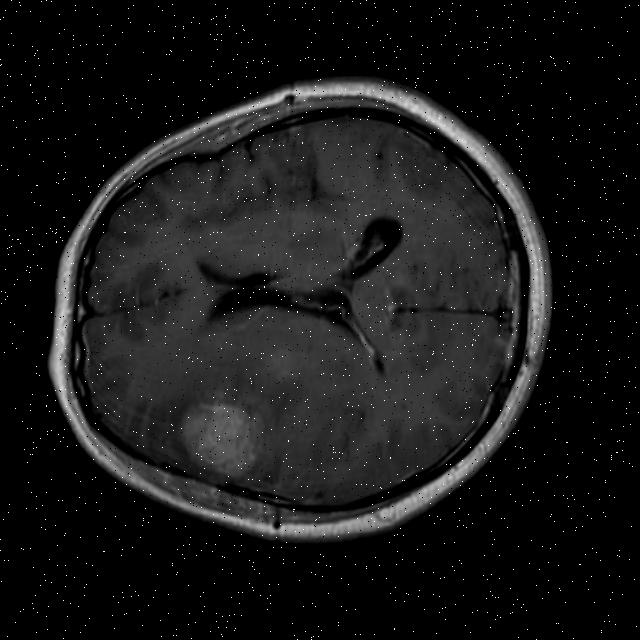Meningioma: (174, 395, 263, 478)
